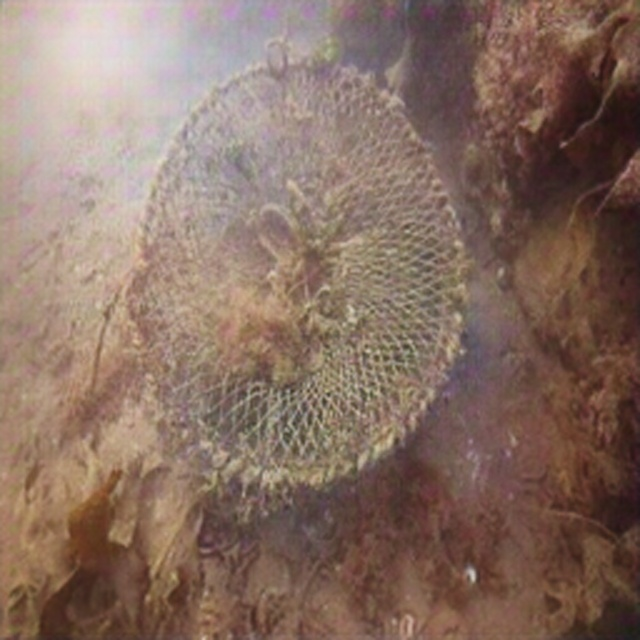mine: (128, 36, 468, 511)
